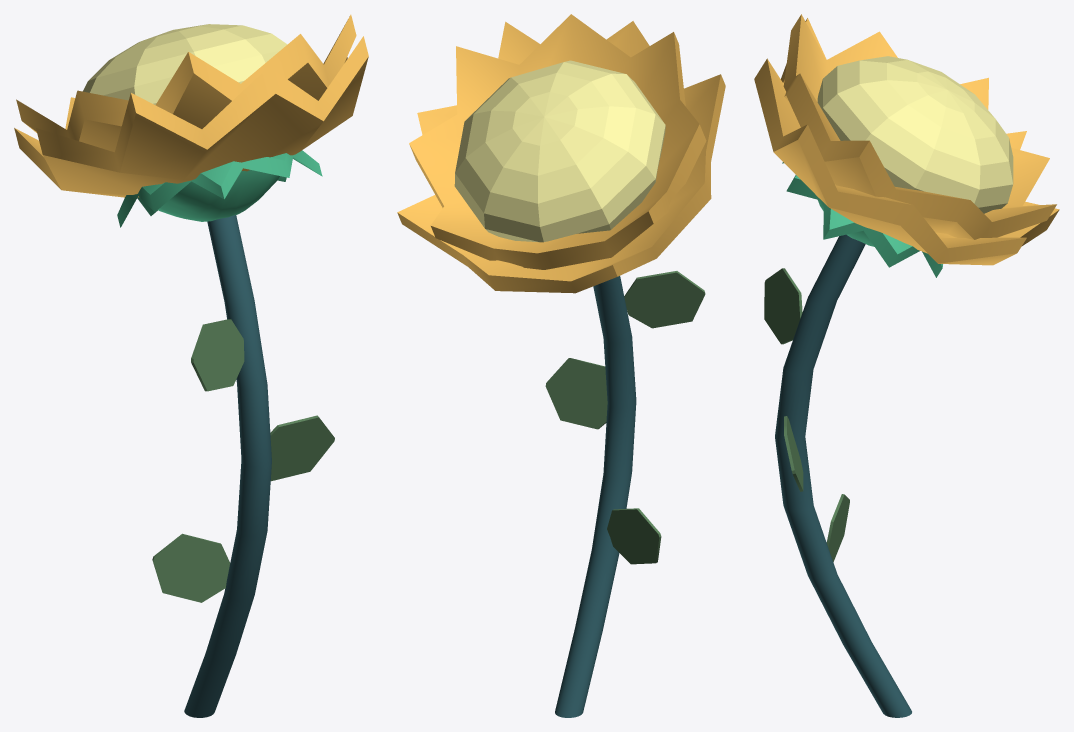
File: OBJ_Big_Flowers_Spiky.obj
3 views of the same model, side by side, from view 1: azimuth 30°, elevation 25°; view 2: azimuth 150°, elevation 25°; view 3: azimuth 270°, elevation 25° (orthographic). The views are drawn at different scales.
Parts seen in each view (by area): view 1: pCylinder8; view 2: pCylinder8; view 3: pCylinder8.
Boxes of the visible parts, x1,y1,x2,y2 form: pCylinder8: (14,14,368,717); pCylinder8: (397,14,725,717); pCylinder8: (754,14,1059,717).
Bounding box in the file's own units: 144 × 315 × 130.
